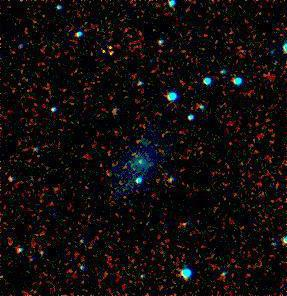star: (92, 159, 122, 189)
